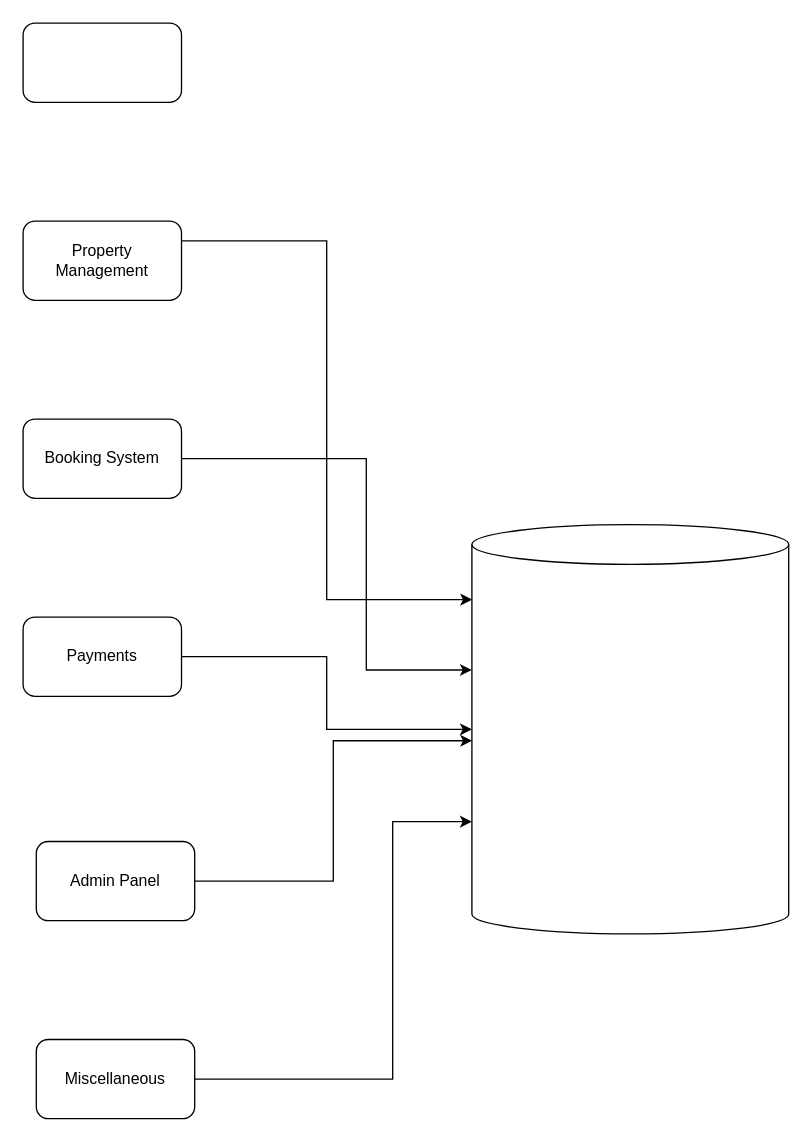
The diagram is 812 pixels wide and 1142 high, and some of its shapes have lost their labels. Here are the shapes that lost their labels. From the top down, the centre of each, then its label:
At (x=102, y=62): "User Authentication".
At (x=630, y=728): "Data base".
